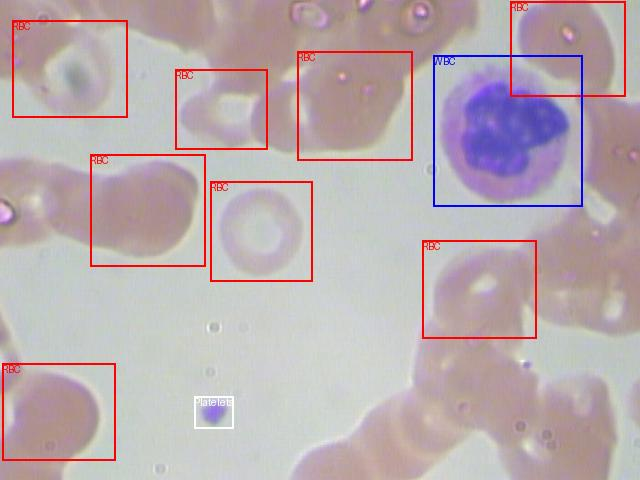Platelets: (194, 396, 233, 428)
RBC: (90, 154, 205, 266), (297, 51, 412, 160), (422, 240, 536, 338), (12, 20, 127, 117), (2, 363, 115, 460), (510, 1, 625, 96), (210, 181, 312, 281), (175, 69, 267, 149)
WBC: (433, 55, 582, 206)
